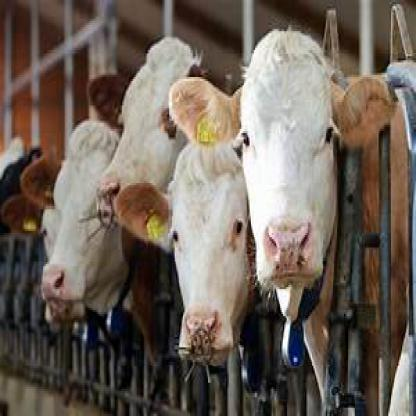cow: (169, 25, 397, 289), (113, 139, 256, 366), (90, 35, 211, 229), (21, 118, 119, 320)
